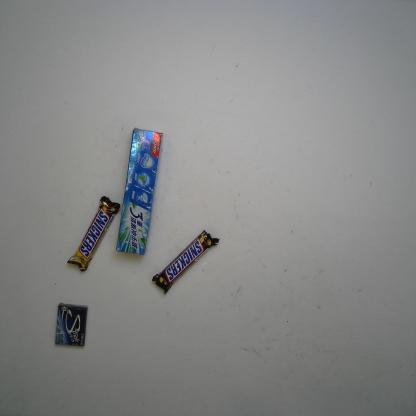Chocolate: (152, 230, 221, 297), (67, 195, 119, 273)
Gum: (54, 302, 86, 347)
Personal Hygiene: (116, 126, 164, 254)
